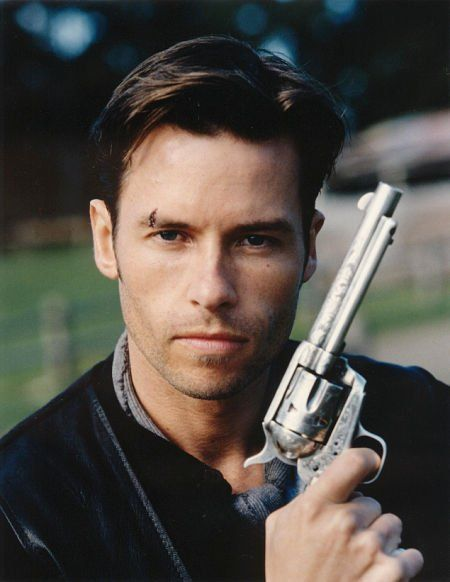Revolver: (240, 171, 421, 500)
